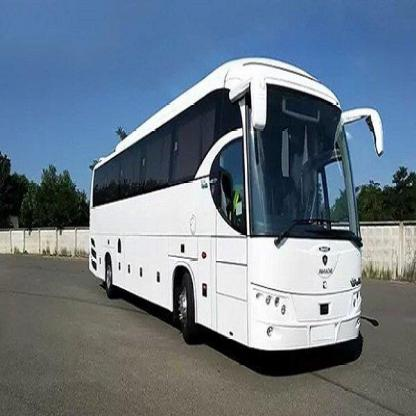Bus: (86, 50, 381, 367)
